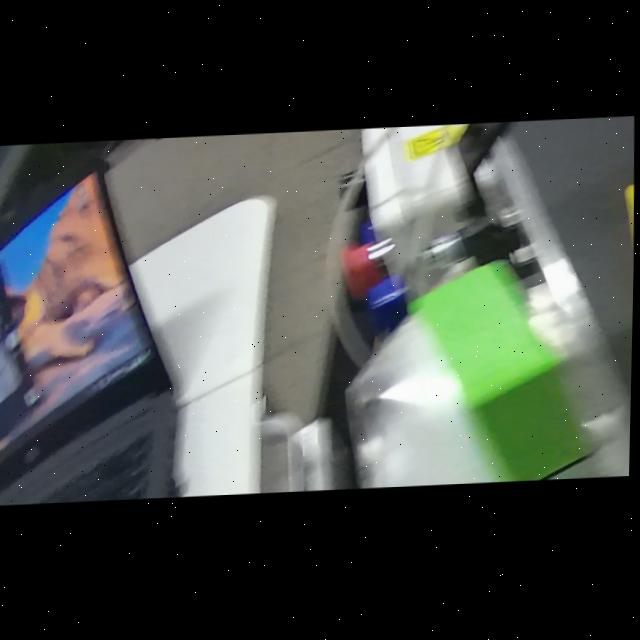greenBox: (386, 235, 599, 490)
yellowBox: (616, 156, 637, 398)
